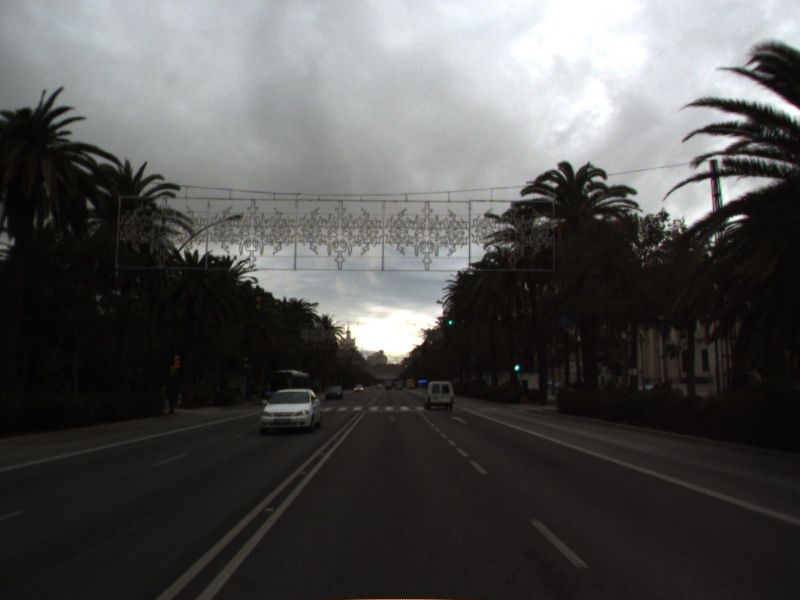STRAIGHT: (449, 414, 469, 425), (386, 414, 401, 424)
